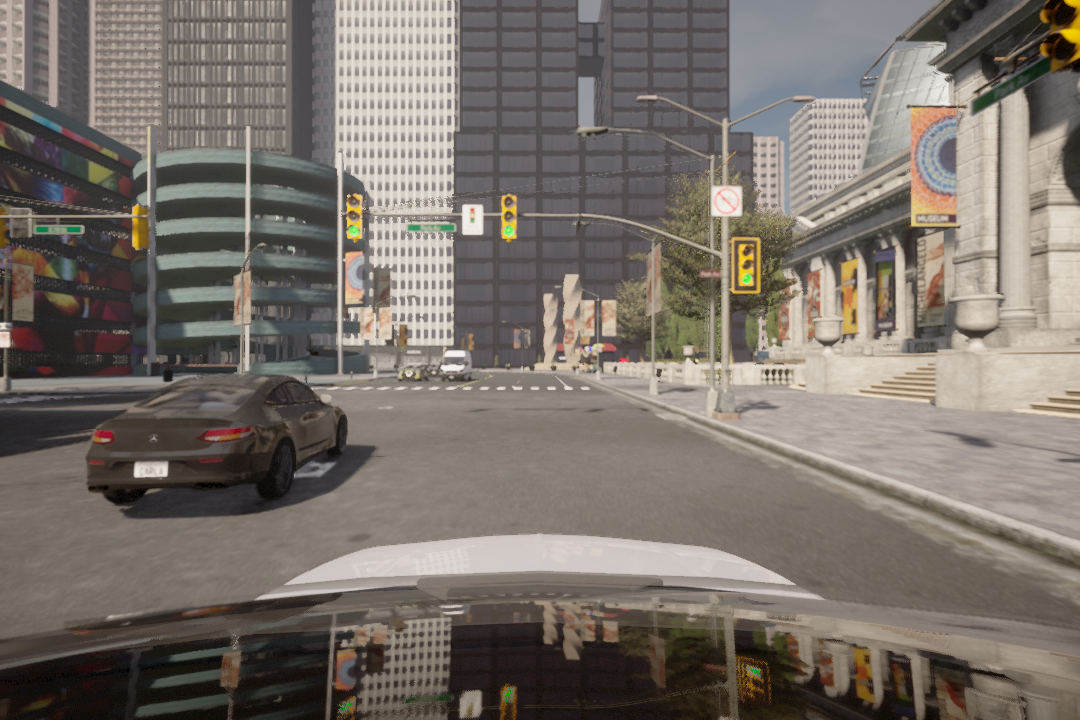TrafficLight: (733, 234, 762, 294), (502, 191, 521, 244), (344, 194, 361, 248)
TrafficSign: (716, 186, 746, 214)
walkside: (308, 384, 602, 393)
